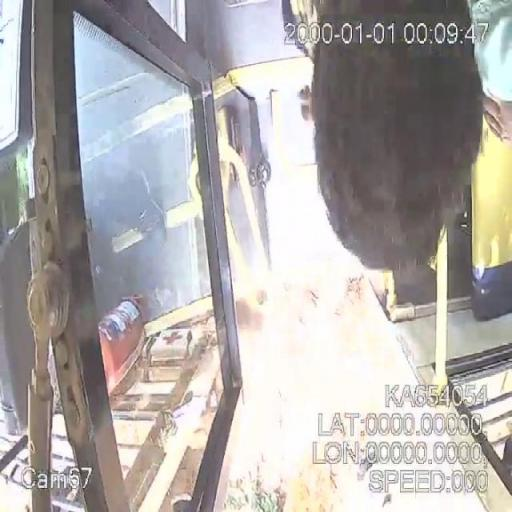persona: (285, 0, 482, 274)
